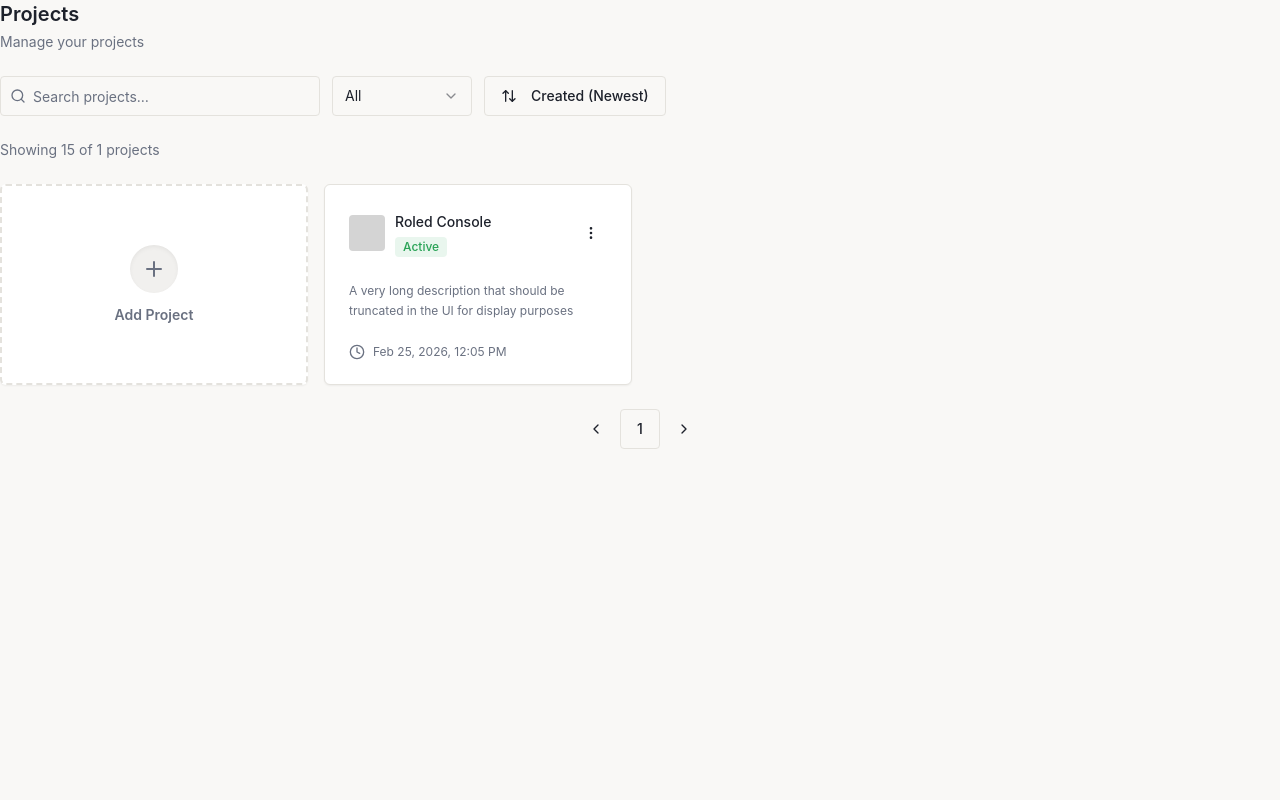
Test: Projects Page › deletes a project after user confirms name
This screenshot has width=1280, height=800.
Expected: the button "Roled Console" is shown, [395,212,544,232]
// open actions menu and click Remove
Click the button named "Actions for Roled Console" at [591, 233], box [575,217,607,249]
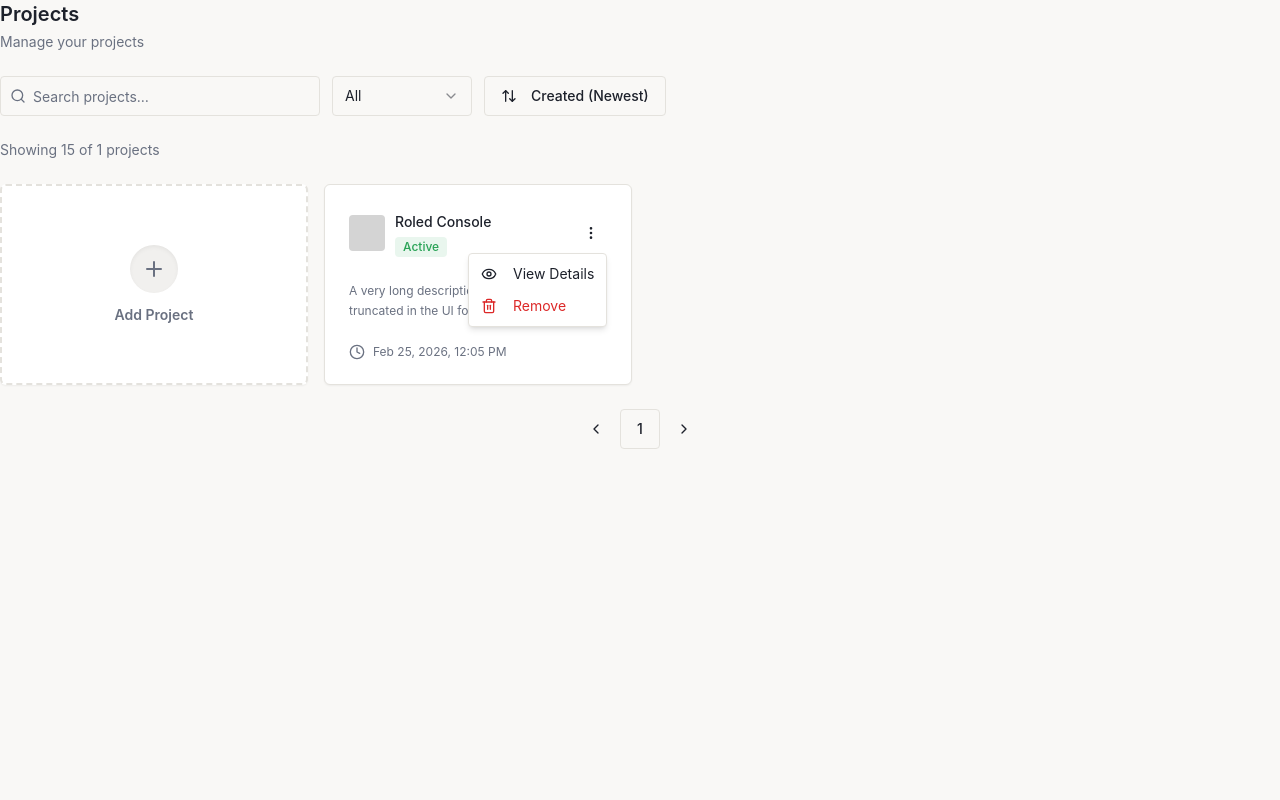
Click the menu item "Remove" at [524, 306], box [481,297,566,314]
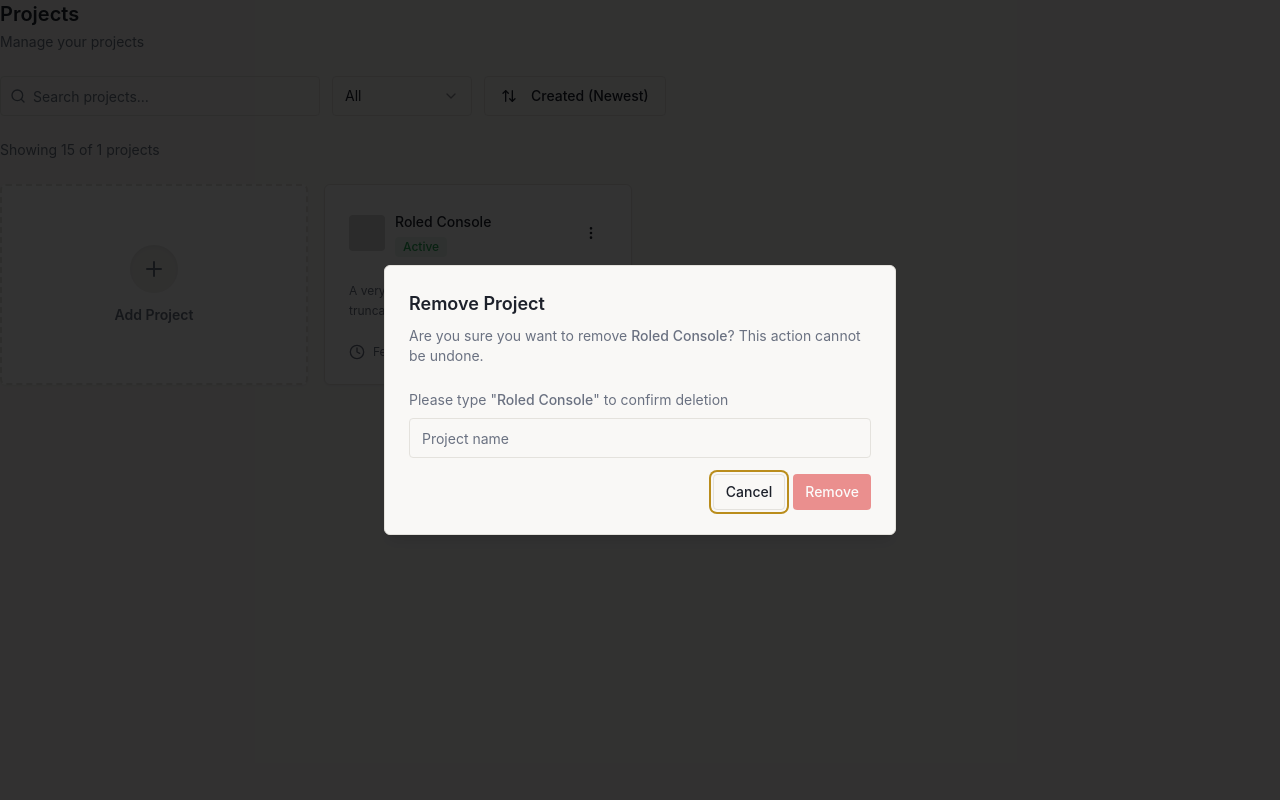
// type name in different case to ensure case-insensitive match
Type "roled console" into the field named "confirm-project-name" at [640, 438], box [409,418,871,458]
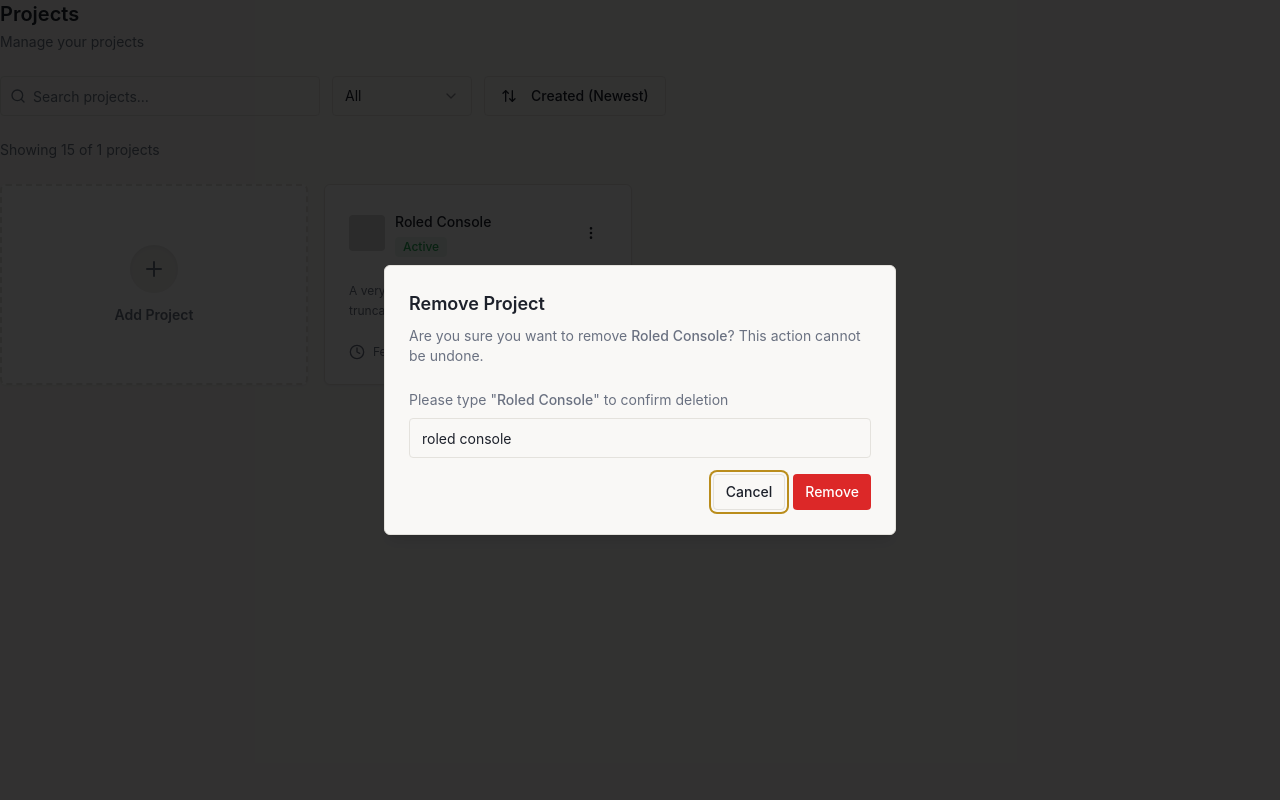
Click the button "Remove" at [832, 492], box [793,474,871,510]
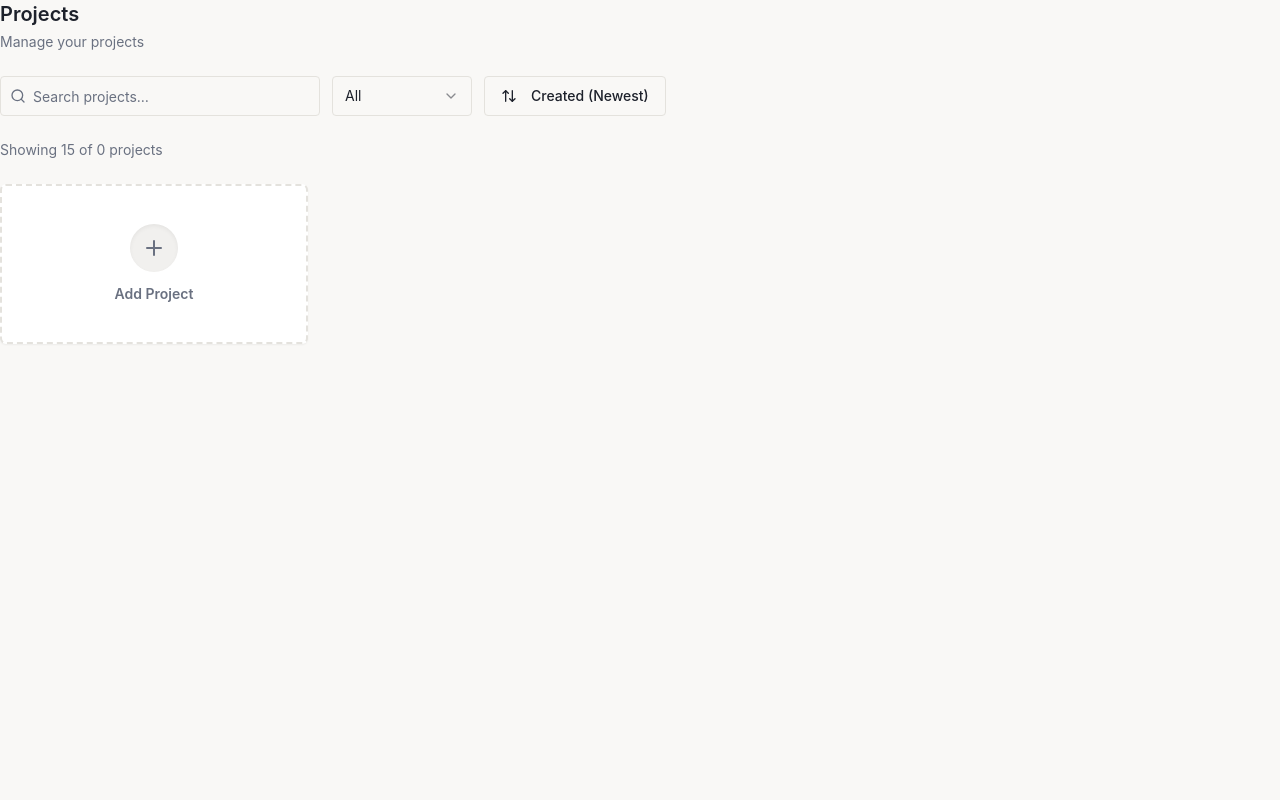
Now the button "Roled Console" is gone
